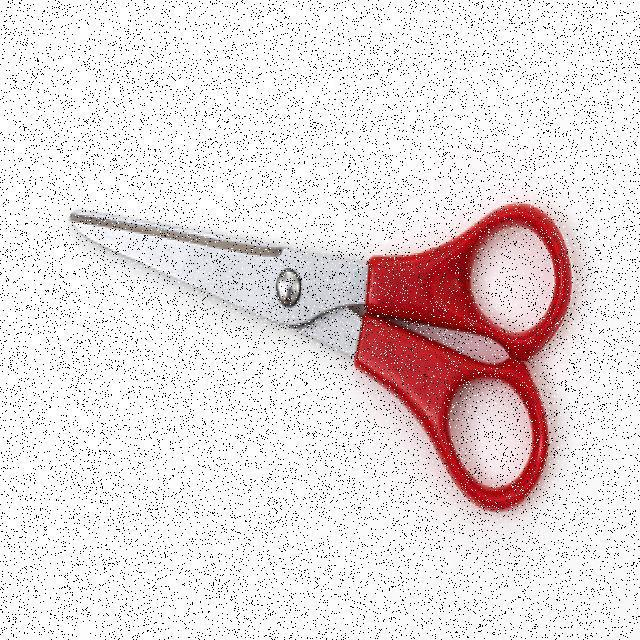scissors: (66, 193, 576, 519)
